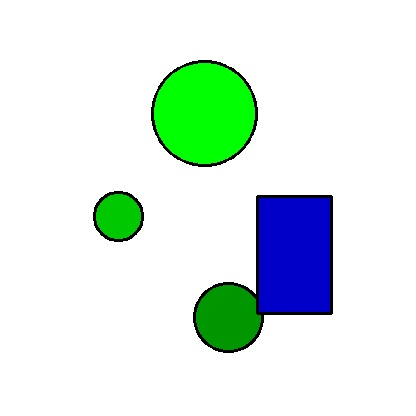circle: (144, 61, 264, 166), (170, 283, 287, 351), (94, 167, 143, 266)
rectangle: (257, 196, 331, 313)
